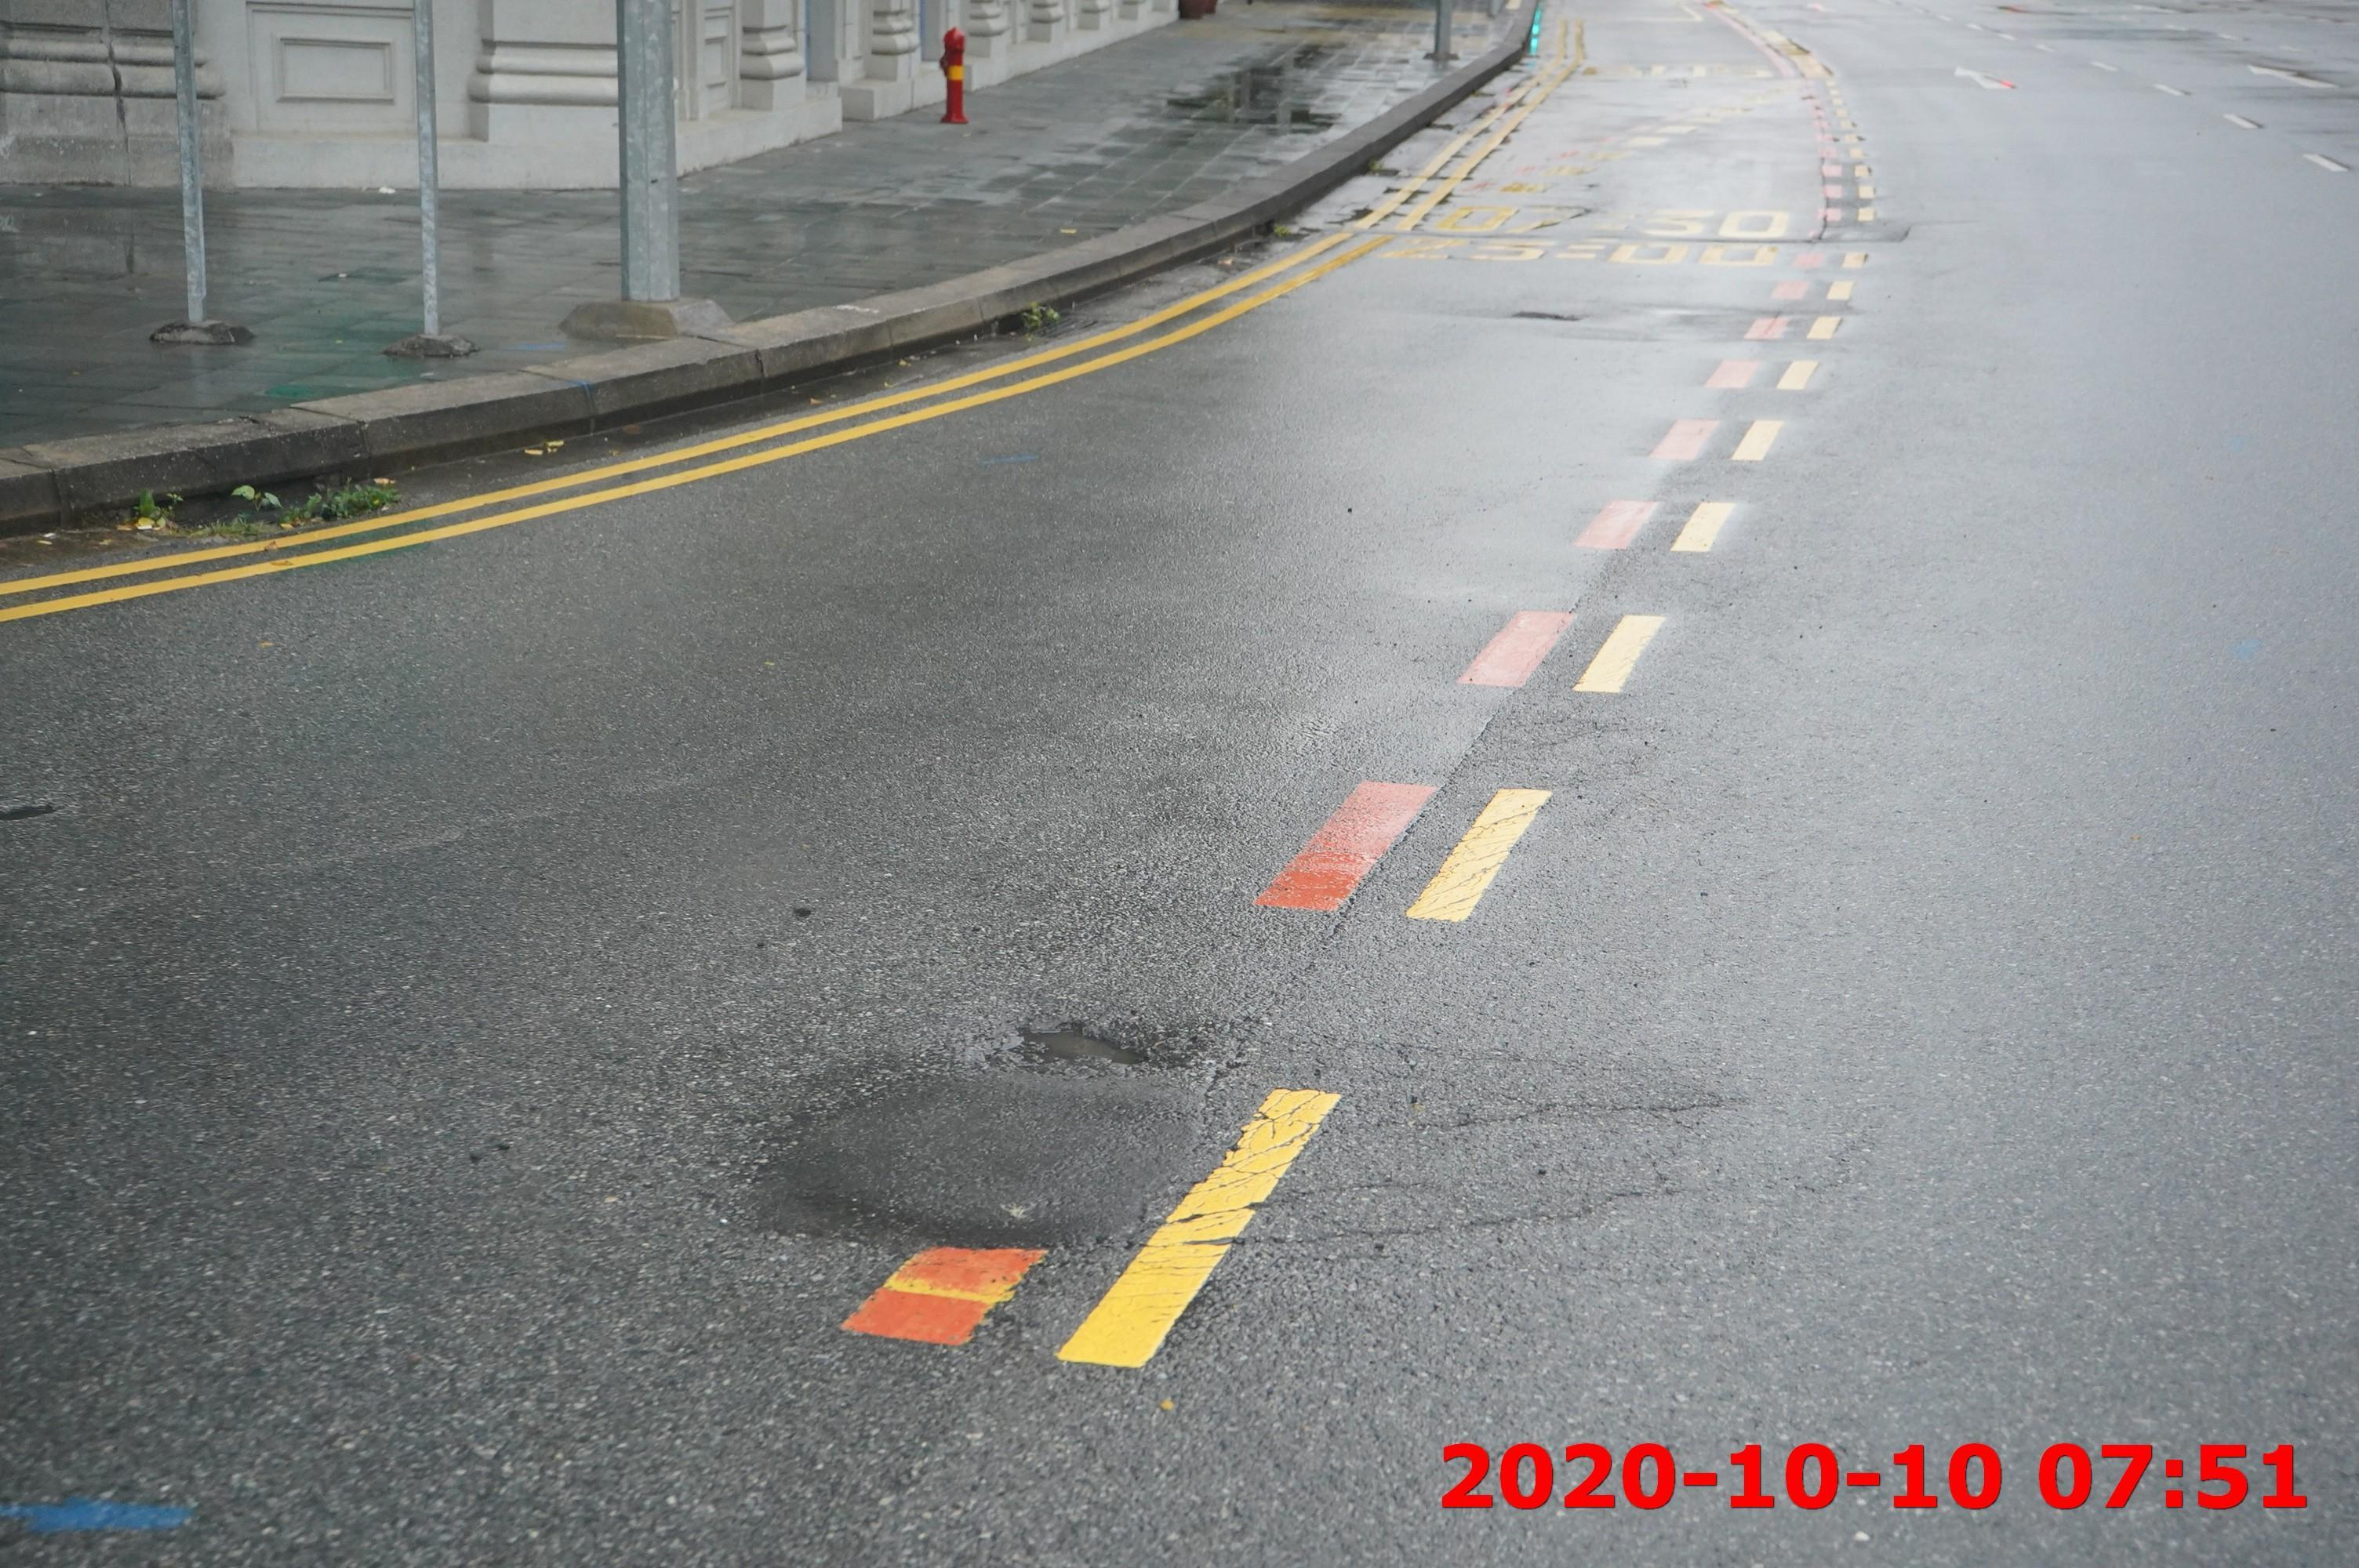peel off with cracks: (719, 1001, 1288, 1253)
peeling off premix: (0, 765, 116, 861)
pothole with crack: (987, 1003, 1172, 1087)
